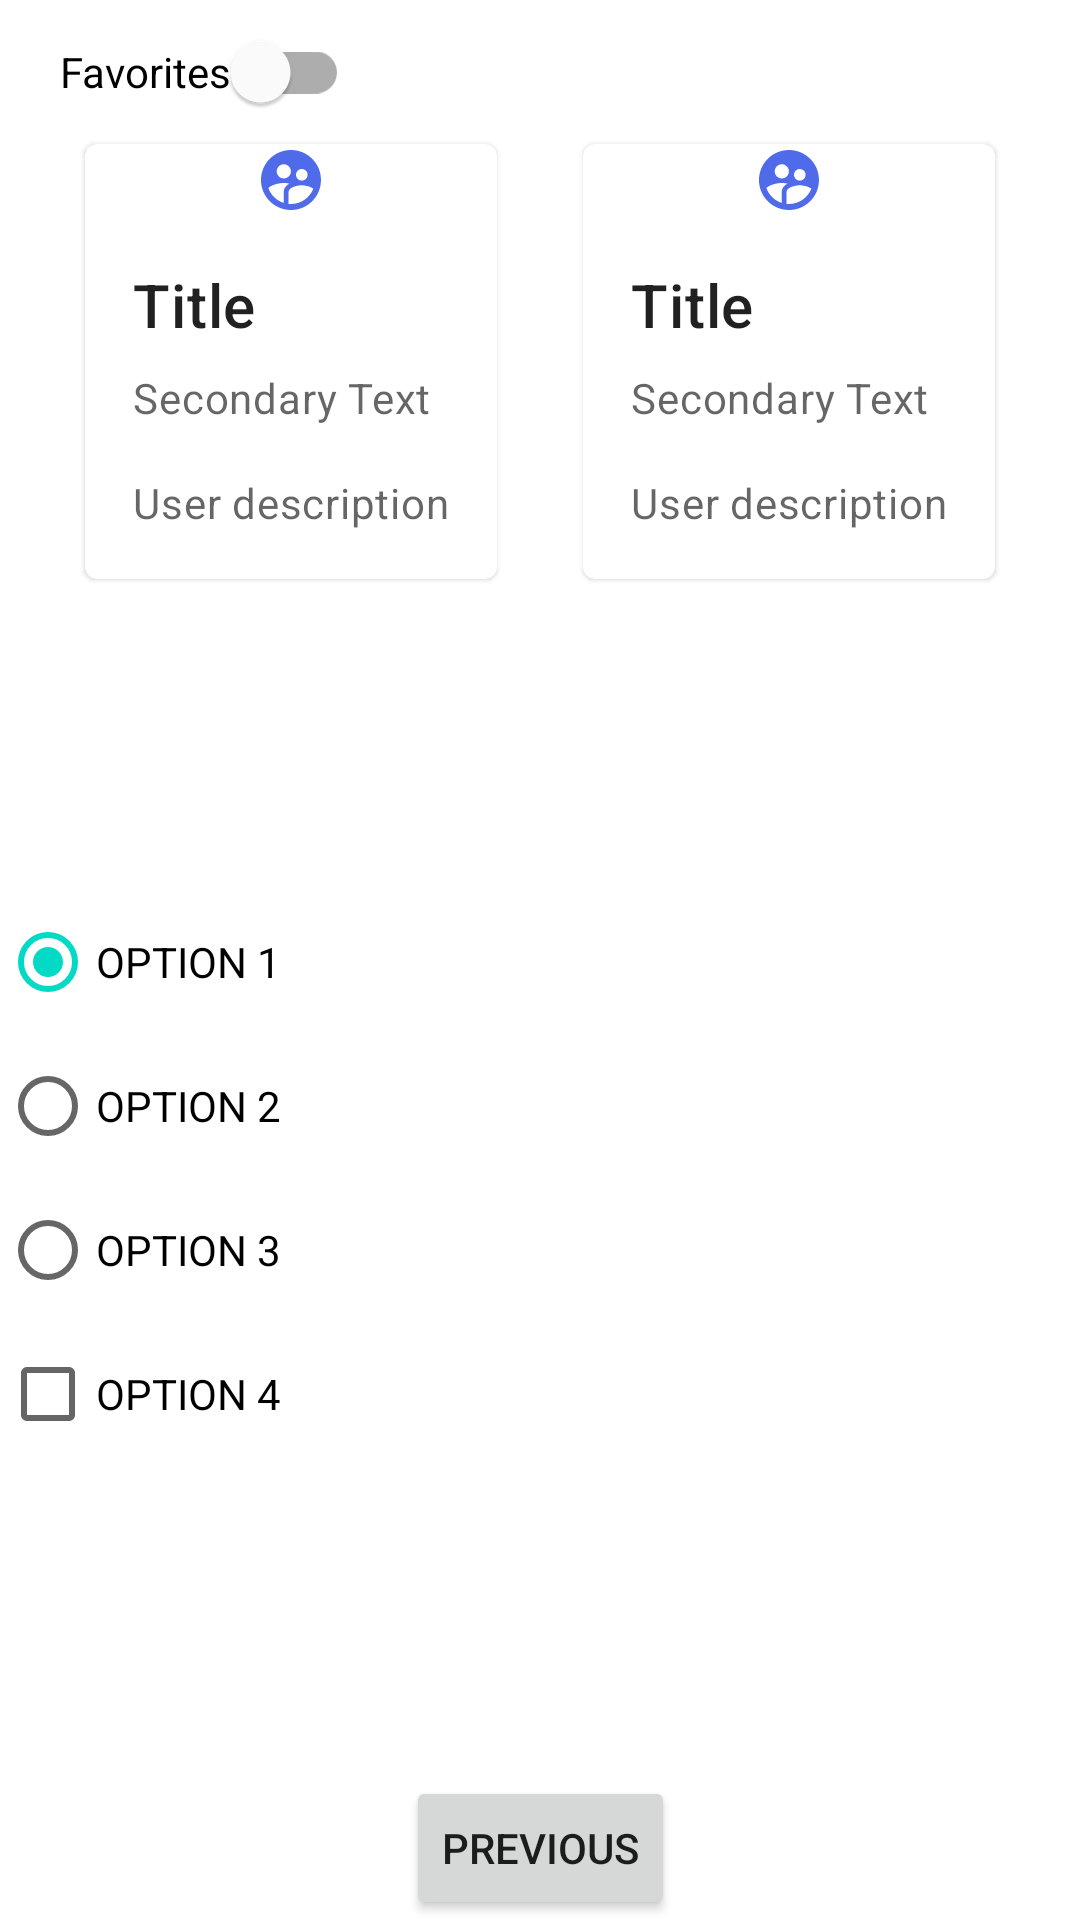

Where icons sit on this 1080 × 1920 app screen, as (x1, y1, x2, y2):
user contact: (261, 150, 321, 210), (759, 150, 819, 210)
